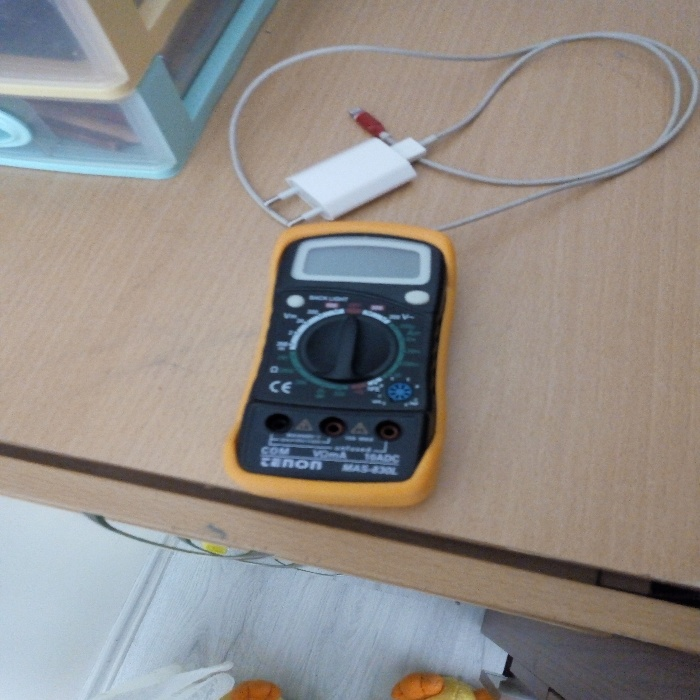multimetre: (226, 197, 460, 505)
